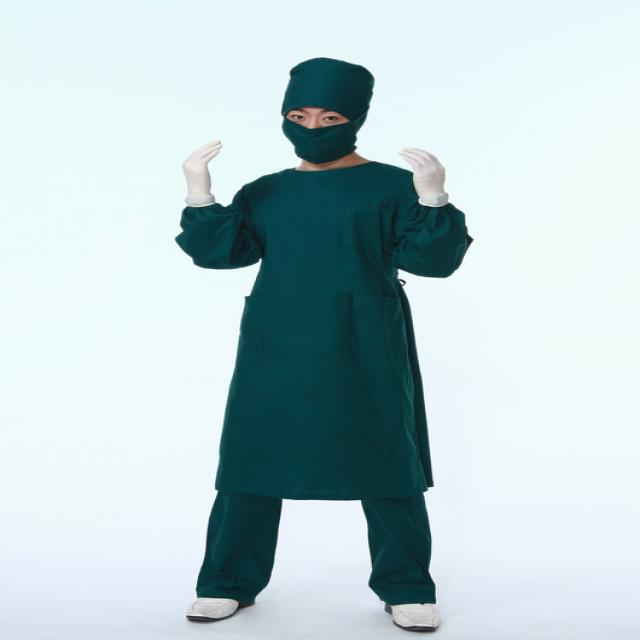mask: (282, 100, 351, 162)
